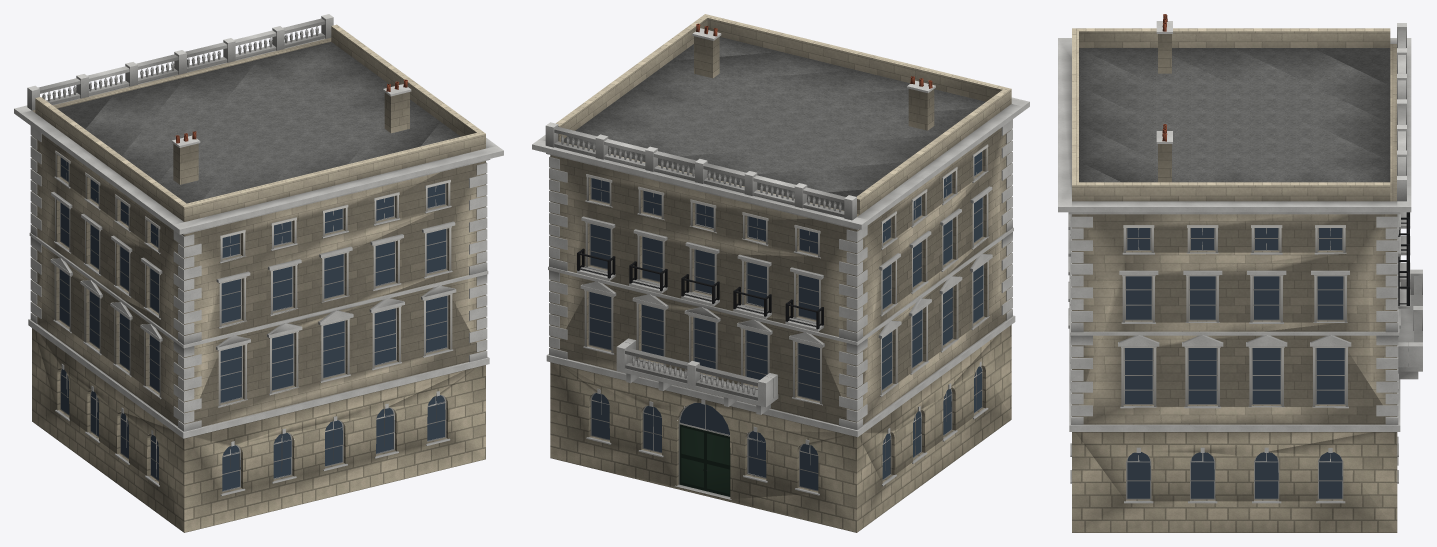
Rendered from town-mansion_lod0.glb.
3 views of the same model, side by side, from view 1: azimuth 30°, elevation 25°; view 2: azimuth 150°, elevation 25°; view 3: azimuth 270°, elevation 25° (orthographic). The views are drawn at different scales.
Parts seen in each view (by area): view 1: town-mansion; view 2: town-mansion; view 3: town-mansion.
Part boxes in pixels (x1,y1,x2,y2): town-mansion: [14, 14, 503, 532]; town-mansion: [532, 14, 1029, 532]; town-mansion: [1058, 14, 1422, 532].
Size of the model in its own units: 17.2 by 18.05 by 15.7.
Materials: 7 (5 with a texture image).
